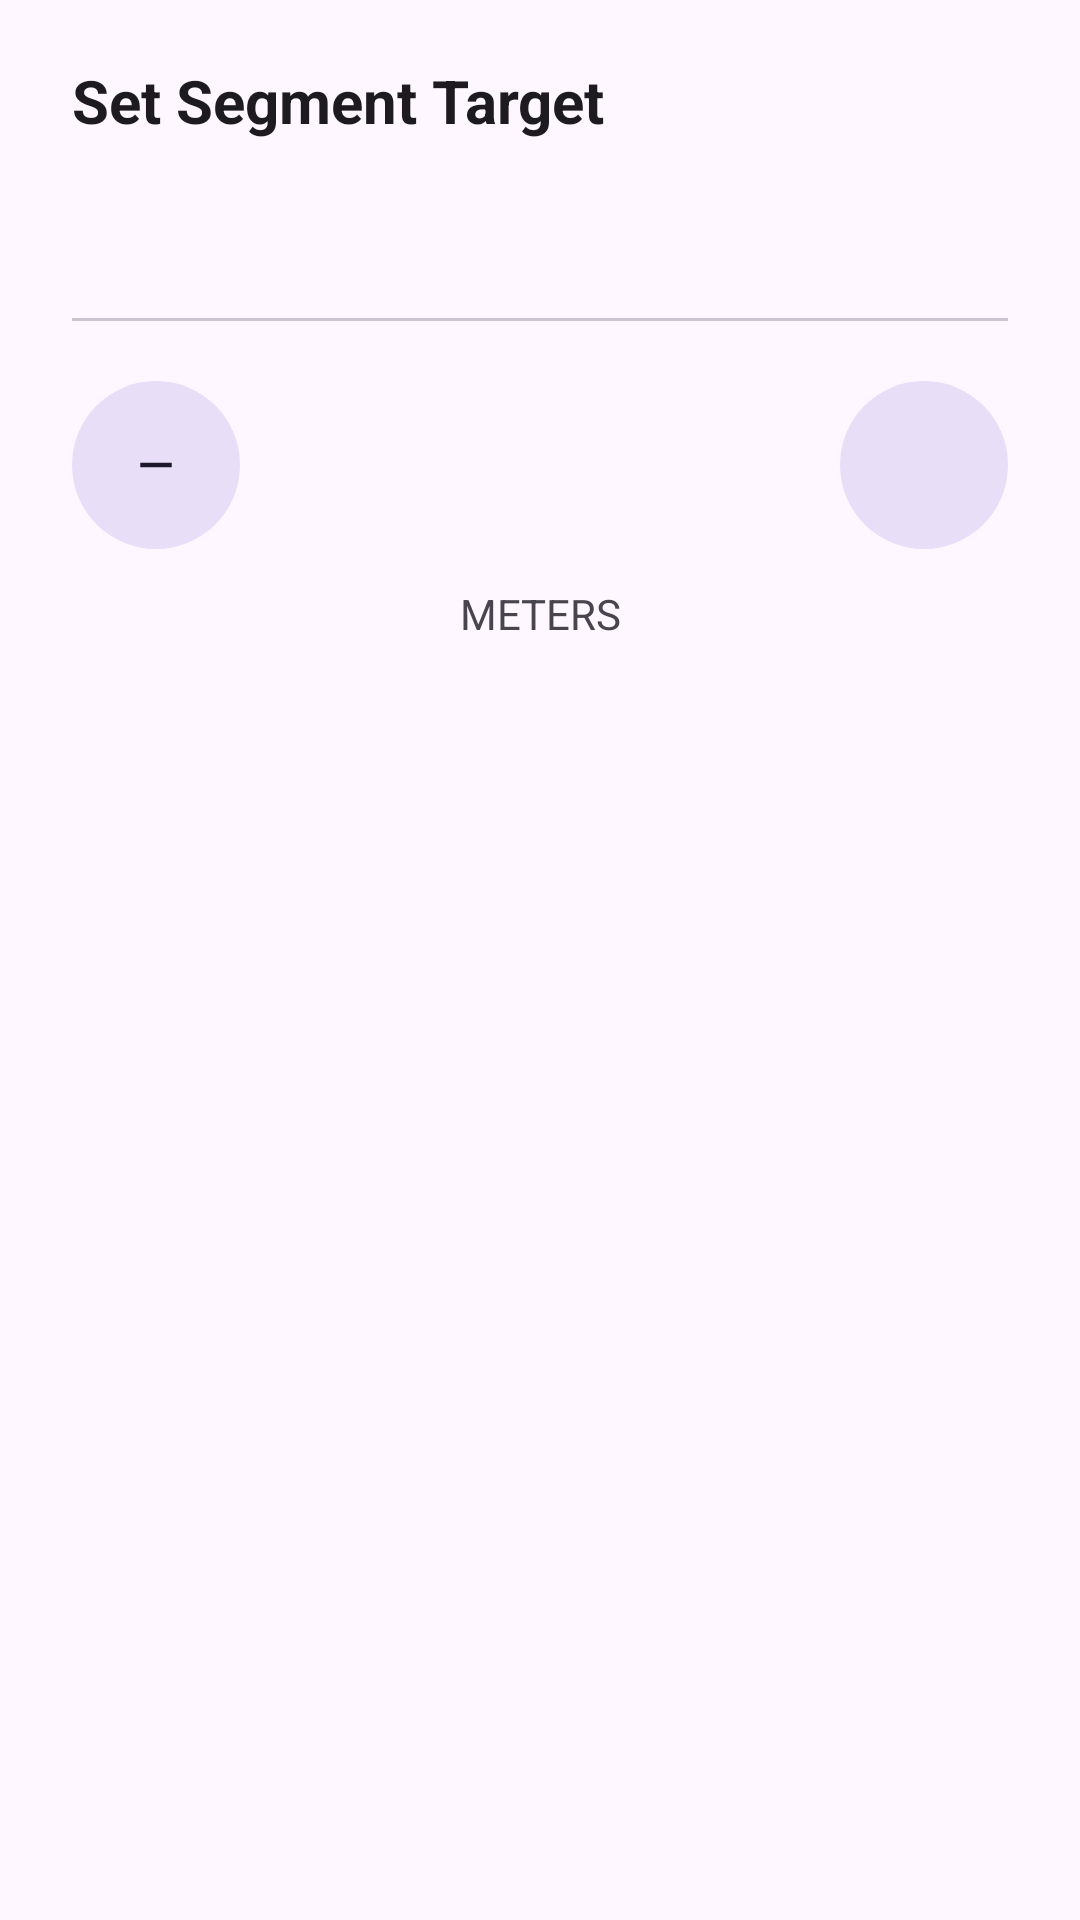

Where to tap for icons on this 1080×1920 app screen, as (x=x, y=y):
Decrease: (x=156, y=465)
